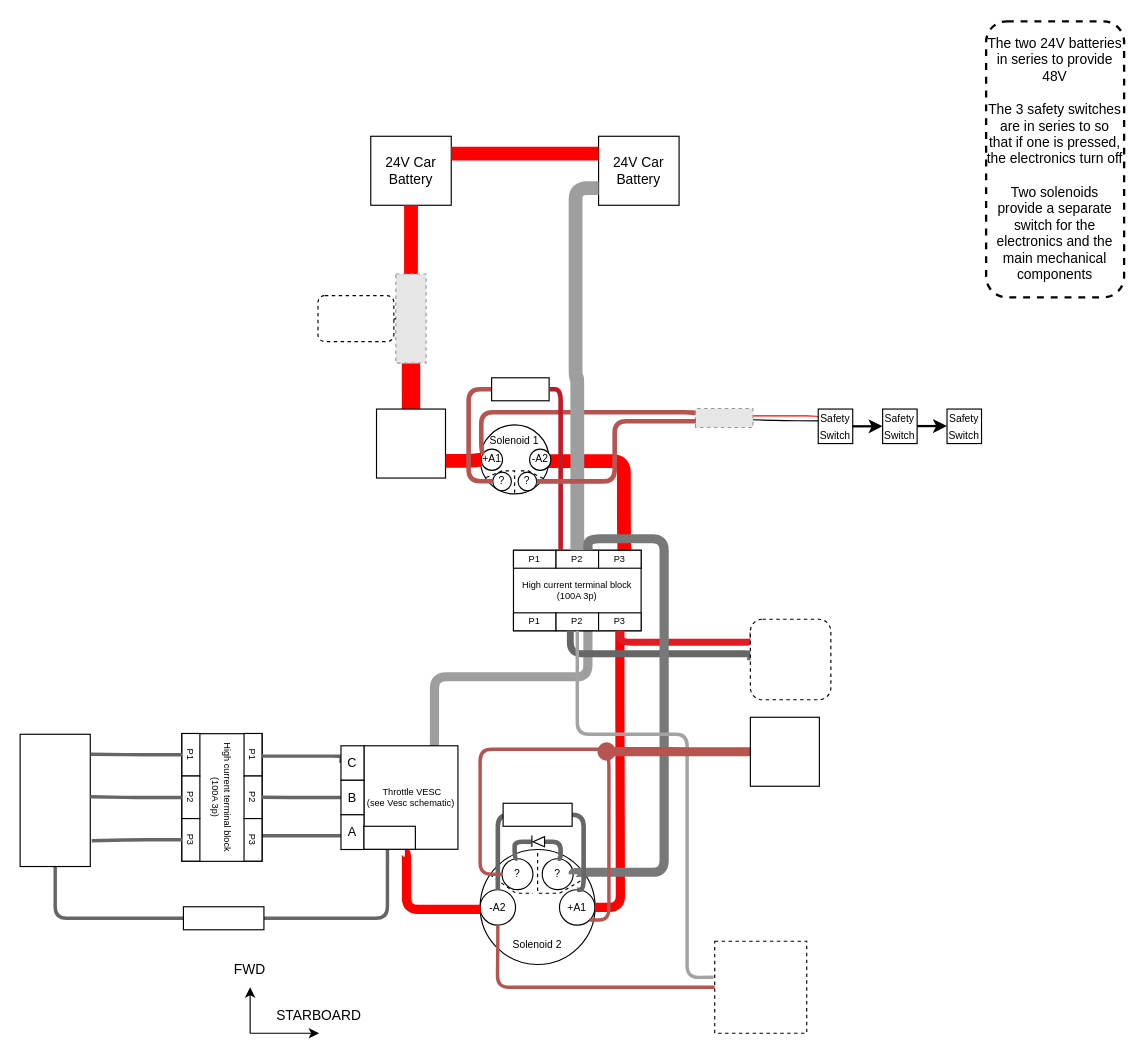
This 1145x1063 diagram has some shape labels left out. Grey dashed boxes stand in for pictures. The centre of each missing label's shape, as x and y in pixels:
"250A Fuse" belongs at point 355,318.
"48V main switch" belongs at point 410,443.
"48V PDB+ (see power distribution schematic)" belongs at point 790,659.
"5A Blade Fuse" belongs at point 519,389.
"Front of car Flipsky" belongs at point 760,986.
"HALL" belongs at point 223,918.
"Motor" belongs at point 54,800.
"Motor Switch" belongs at point 784,751.
"R (470 Ohms)" belongs at point 537,814.
"SENSE" belongs at point 389,837.
